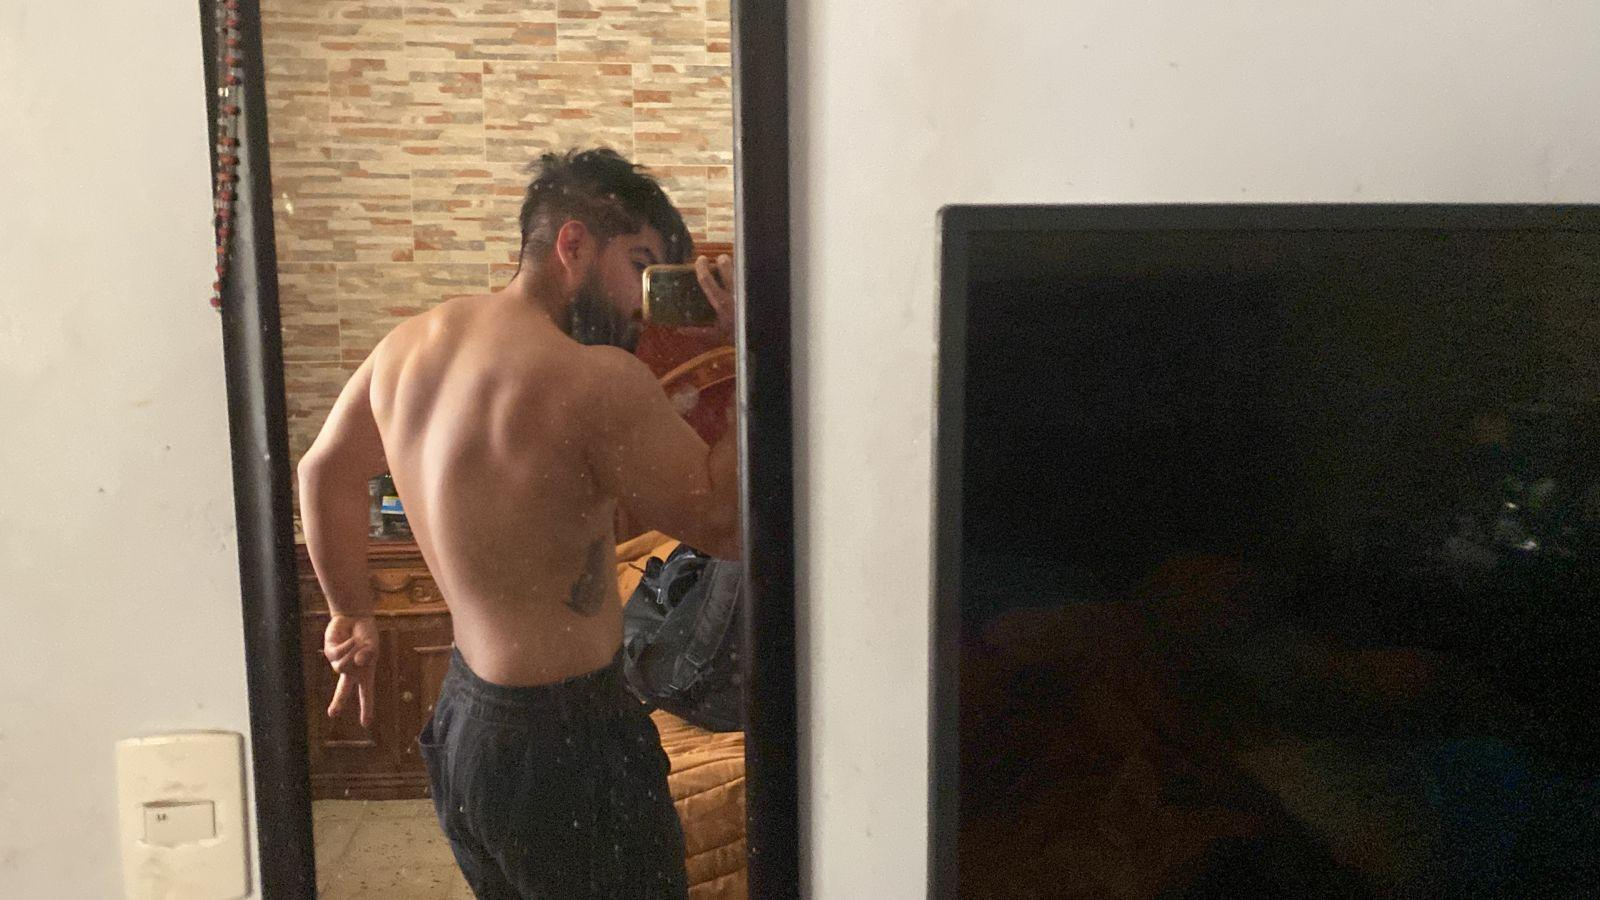Scissor: (296, 596, 407, 734)
